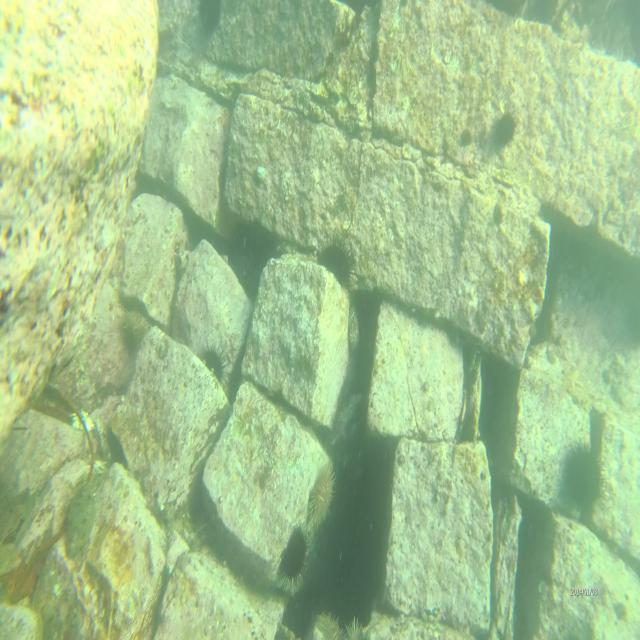echinus: (562, 437, 608, 518), (318, 229, 358, 294), (276, 520, 310, 592), (306, 464, 336, 532), (198, 338, 230, 390), (118, 306, 146, 348), (494, 105, 518, 150), (312, 611, 346, 640), (198, 0, 222, 35)
